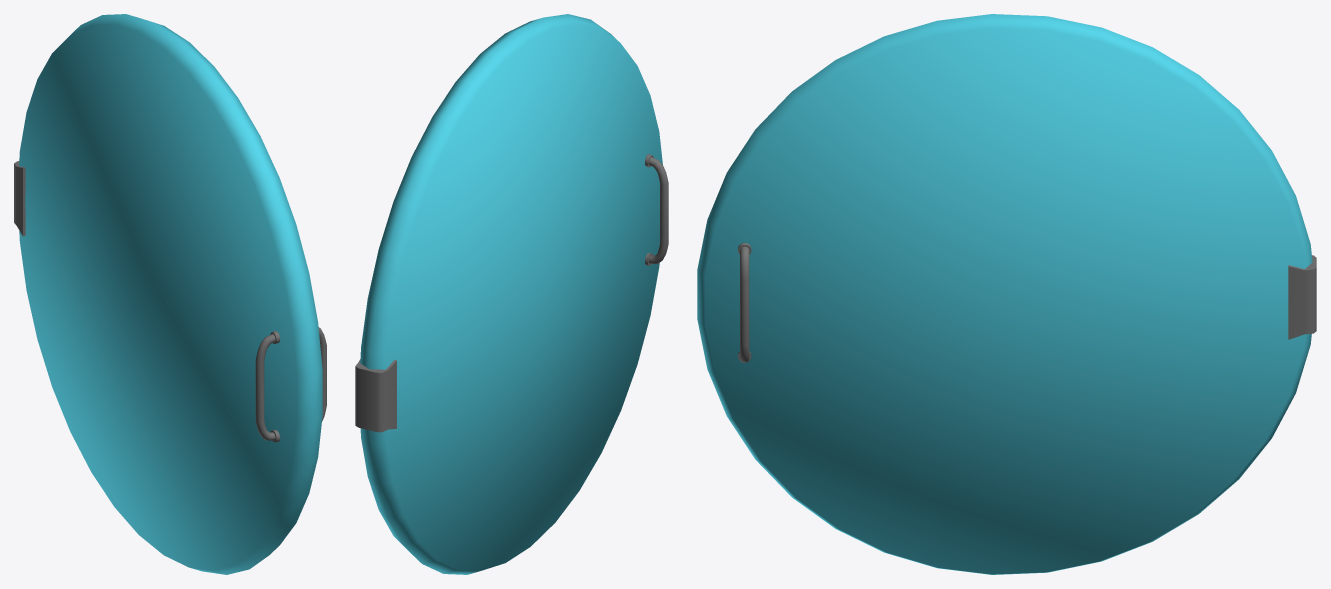
The model's file is saunaDoor.fbx.
3 renders of one model, left to right at view 1: azimuth 30°, elevation 25°; view 2: azimuth 150°, elevation 25°; view 3: azimuth 270°, elevation 25°, orthographic. The views are drawn at different scales.
Parts seen in each view (by area): view 1: saunaDoor; view 2: saunaDoor; view 3: saunaDoor.
Boxes of the visible parts, box(x1,y1,x2,y2) form: saunaDoor: box(14, 14, 326, 574); saunaDoor: box(355, 14, 668, 574); saunaDoor: box(697, 14, 1316, 574).
Bounding box in the file's own units: 12.35 × 87.69 × 87.71.
